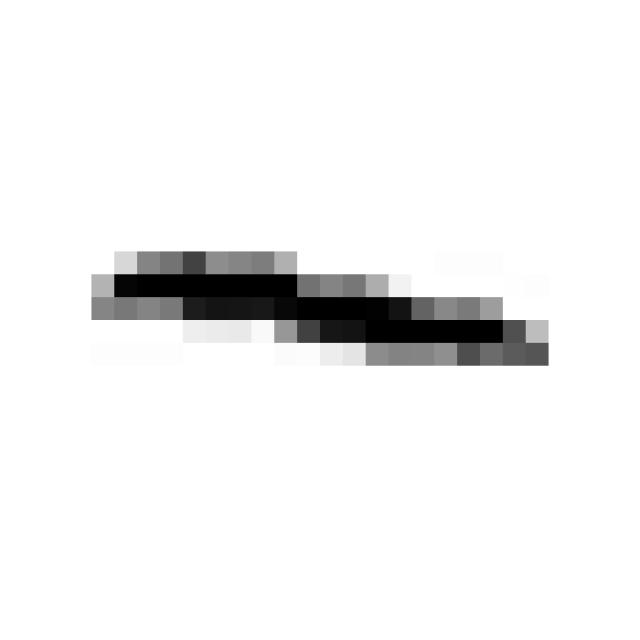0 -zero-: (80, 238, 568, 393)
